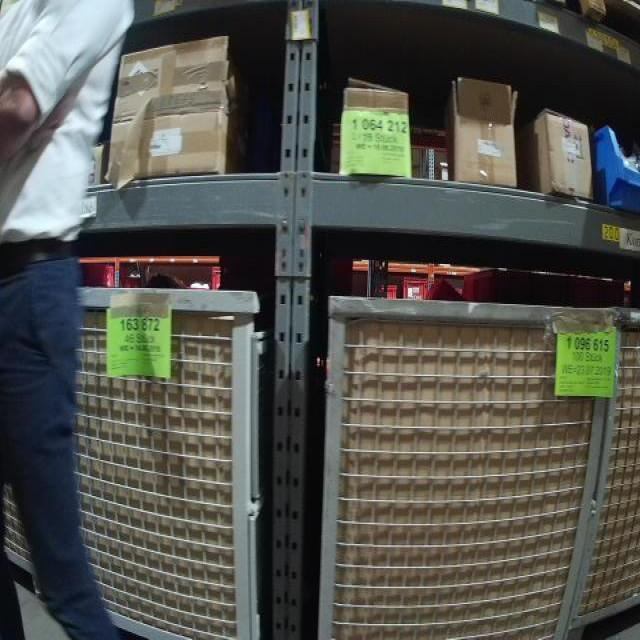small_load_carrier: (462, 271, 528, 312), (399, 275, 434, 307), (86, 264, 123, 290), (371, 281, 396, 307), (210, 265, 225, 291)
stillage: (309, 288, 617, 637), (4, 271, 279, 640), (554, 297, 640, 636)
